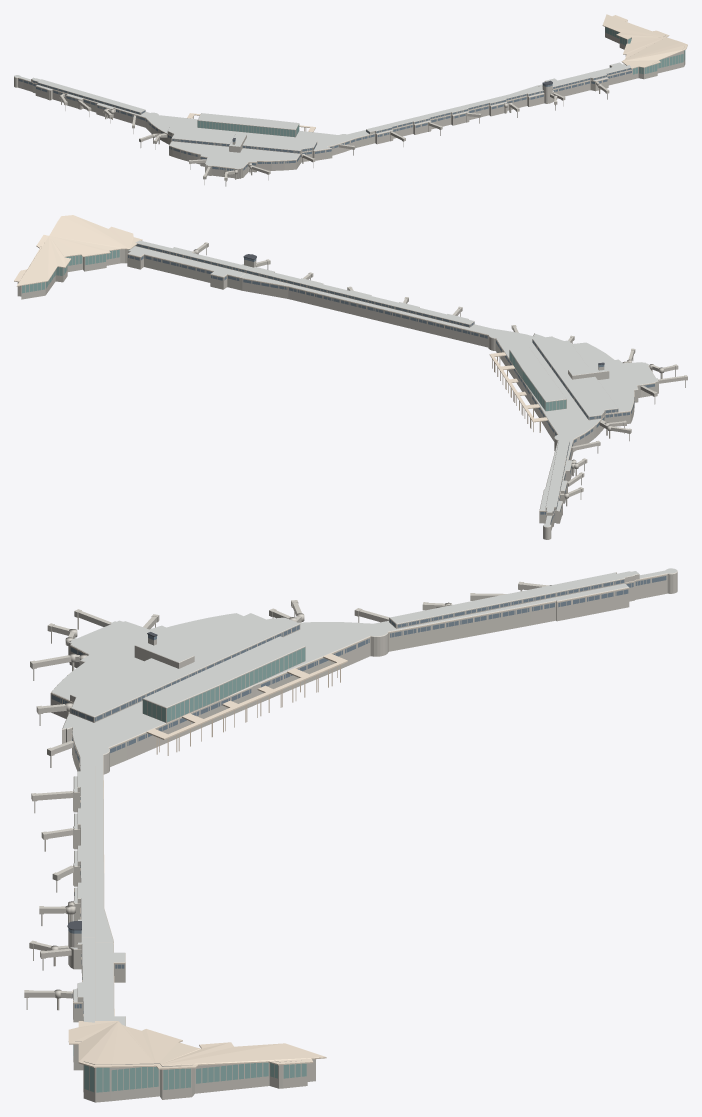
Rendered from chi-ohare-terminal-5.detail.glb.
The picture shows the model from 3 angles, top to bottom: view 1: azimuth 30°, elevation 25°; view 2: azimuth 150°, elevation 25°; view 3: azimuth 270°, elevation 25°; orthographic projection. The views are drawn at different scales.
Parts seen in each view (by area): view 1: O'Hare Terminal 5; view 2: O'Hare Terminal 5; view 3: O'Hare Terminal 5.
Part boxes in pixels (x1,y1,x2,y2): O'Hare Terminal 5: [14, 14, 687, 186]; O'Hare Terminal 5: [14, 215, 687, 539]; O'Hare Terminal 5: [24, 568, 677, 1102].
Size of the model in its own units: 889 by 33.8 by 475.
